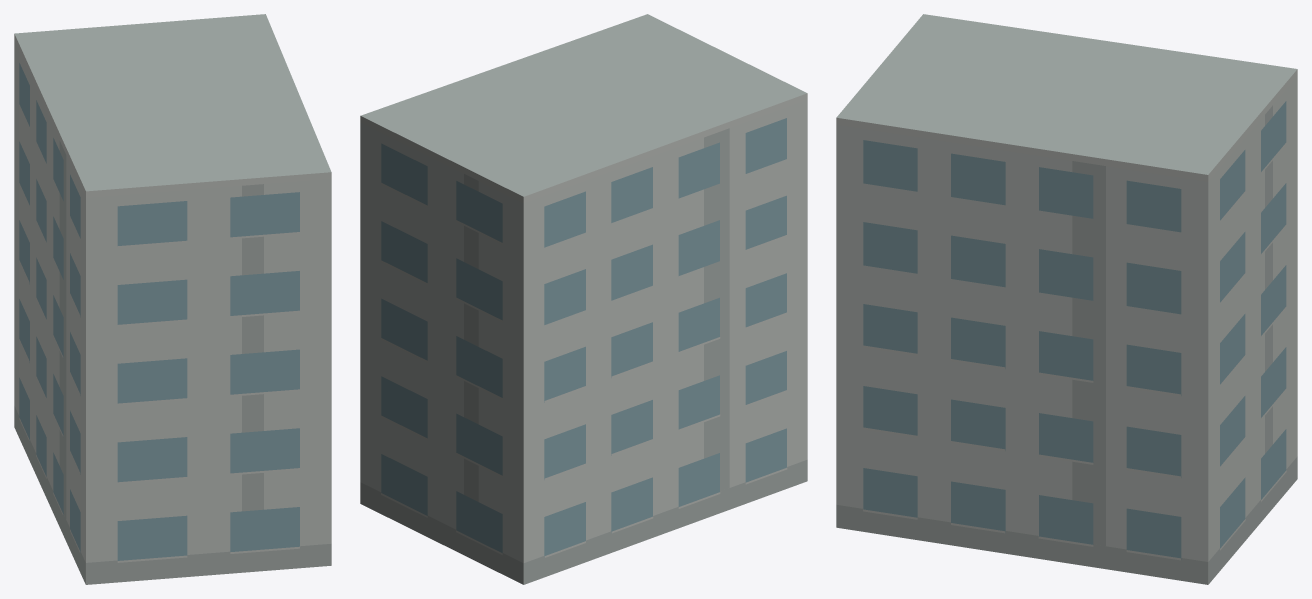
File: survey-upis-32882615.glb
3 renders of one model, left to right at view 1: azimuth 30°, elevation 25°; view 2: azimuth 150°, elevation 25°; view 3: azimuth 270°, elevation 25°, orthographic. The views are drawn at different scales.
Visible parts, largest first — view 1: survey-upis-32882615.tmp; view 2: survey-upis-32882615.tmp; view 3: survey-upis-32882615.tmp.
Boxes of the visible parts, <box> form: survey-upis-32882615.tmp: <box>14,14,331,584</box>; survey-upis-32882615.tmp: <box>360,14,807,584</box>; survey-upis-32882615.tmp: <box>836,14,1297,584</box>.
Bounding box in the file's own units: 12.24 × 14.52 × 14.82.
